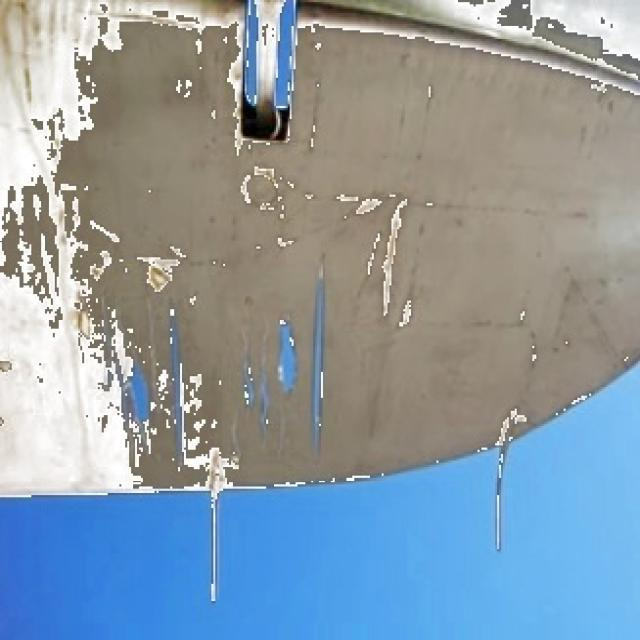crack: (106, 251, 331, 467)
